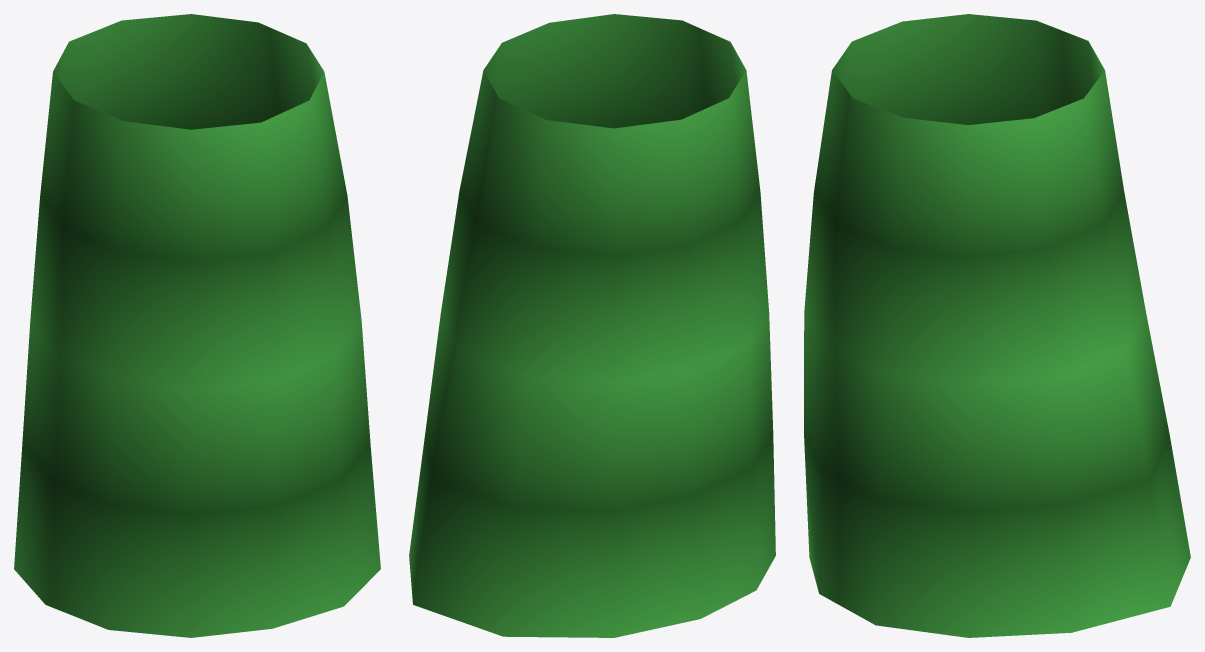
The model's file is chlorophyte_armor_cuisse.L.glb.
The picture shows the model from 3 angles, left to right: view 1: azimuth 30°, elevation 25°; view 2: azimuth 150°, elevation 25°; view 3: azimuth 270°, elevation 25°; orthographic projection. The views are drawn at different scales.
Parts seen in each view (by area): view 1: chlorophyte_armor_cuisse.L; view 2: chlorophyte_armor_cuisse.L; view 3: chlorophyte_armor_cuisse.L.
Boxes of the visible parts, x1,y1,x2,y2 form: chlorophyte_armor_cuisse.L: (14, 14, 380, 637); chlorophyte_armor_cuisse.L: (409, 14, 775, 637); chlorophyte_armor_cuisse.L: (804, 14, 1190, 637).
Bounding box in the file's own units: 0.2446 × 0.37 × 0.2662.
